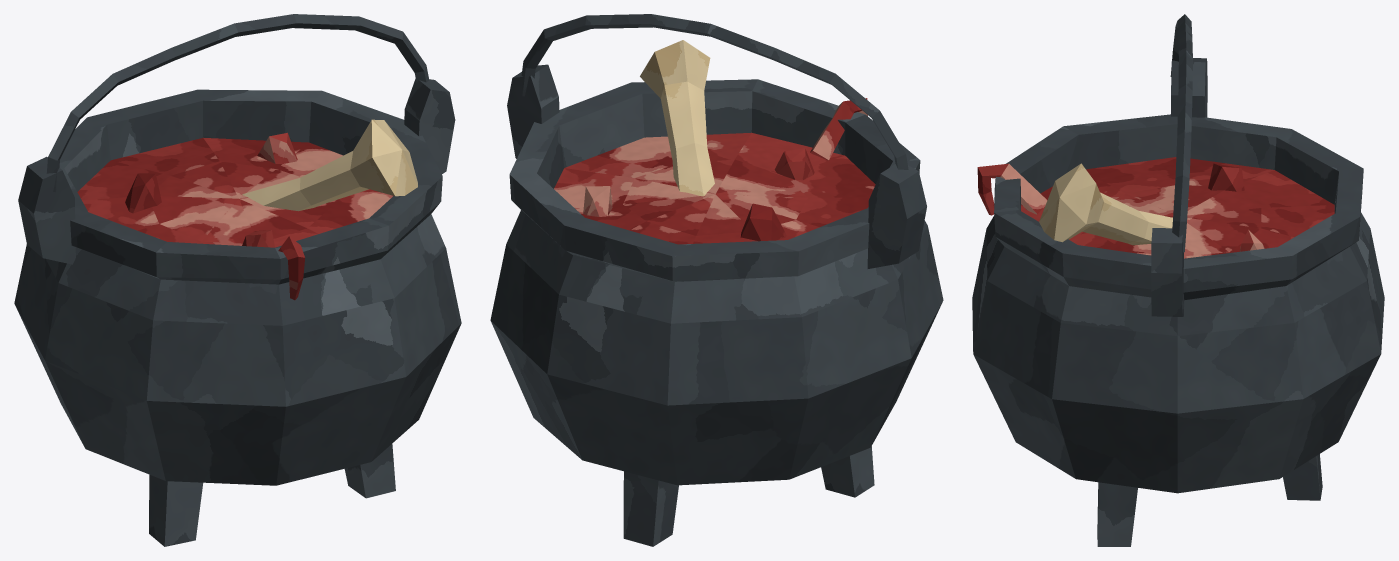
Rendered from SM_CookingPot.fbx.
3 renders of one model, left to right at view 1: azimuth 30°, elevation 25°; view 2: azimuth 150°, elevation 25°; view 3: azimuth 270°, elevation 25°, orthographic. The views are drawn at different scales.
Parts seen in each view (by area): view 1: SM_CookingPot; view 2: SM_CookingPot; view 3: SM_CookingPot.
Part boxes in pixels (<box>): SM_CookingPot: <box>14,14,461,546</box>; SM_CookingPot: <box>490,14,943,546</box>; SM_CookingPot: <box>972,14,1384,546</box>.
Size of the model in its own units: 0.5776 by 0.62 by 0.5252.
